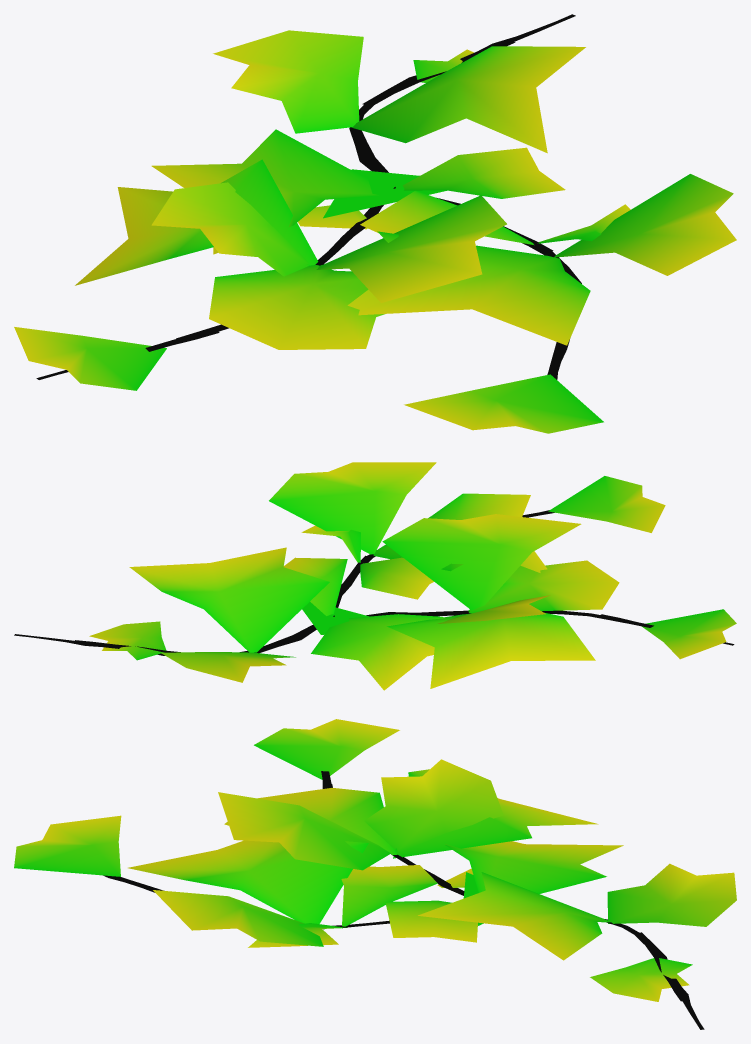
The model's file is Mile-a-minute Vine_LOD0_Var8_sfqns.fbx.
3 views of the same model, one above another, from view 1: azimuth 30°, elevation 25°; view 2: azimuth 150°, elevation 25°; view 3: azimuth 270°, elevation 25° (orthographic). The views are drawn at different scales.
Parts seen in each view (by area): view 1: _f48b_Var8_LOD0; view 2: _f48b_Var8_LOD0; view 3: _f48b_Var8_LOD0.
Part boxes in pixels (x1,y1,x2,y2): _f48b_Var8_LOD0: [14, 14, 736, 433]; _f48b_Var8_LOD0: [14, 462, 736, 690]; _f48b_Var8_LOD0: [14, 719, 736, 1029].
Size of the model in its own units: 24.09 by 1.99 by 24.35.
